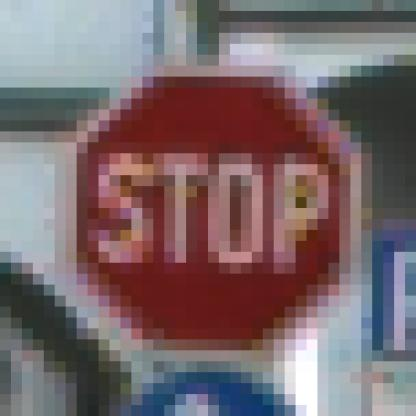Stop: (74, 68, 353, 358)
